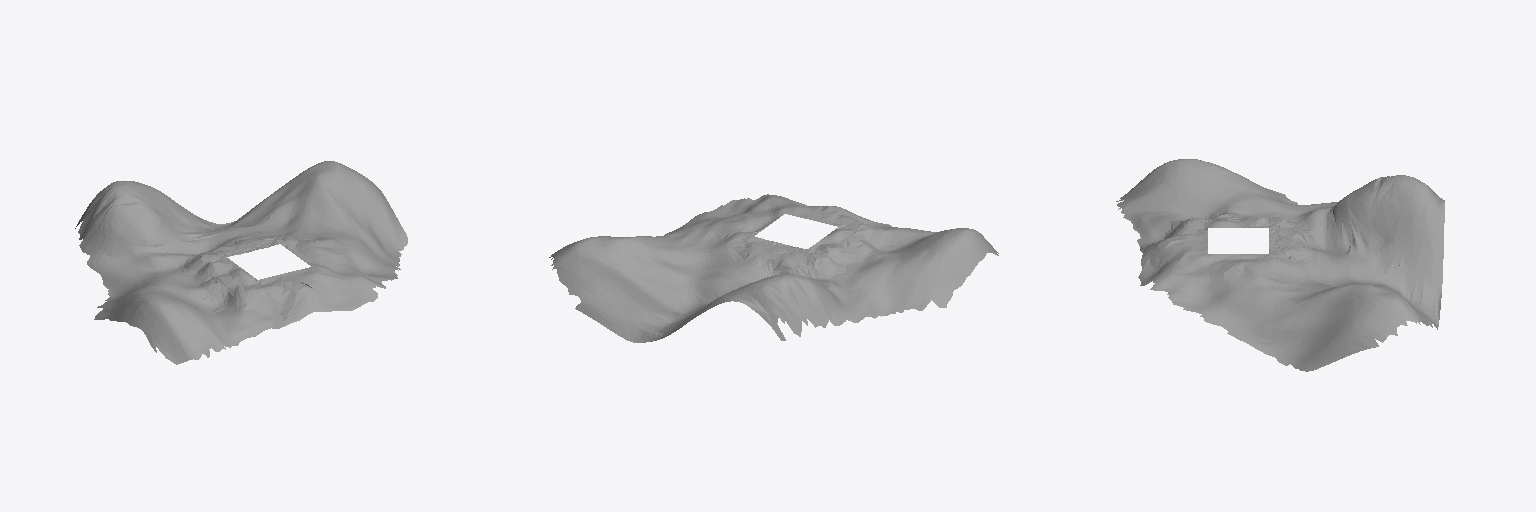
File: Sand.obj
3 views of the same model, side by side, from view 1: azimuth 30°, elevation 25°; view 2: azimuth 150°, elevation 25°; view 3: azimuth 270°, elevation 25° (orthographic).
Visible parts, largest first — view 1: Sand_Sand.001; view 2: Sand_Sand.001; view 3: Sand_Sand.001.
Boxes of the visible parts, x1=… form: Sand_Sand.001: x1=75, y1=161, x2=407, y2=364; Sand_Sand.001: x1=549, y1=194, x2=998, y2=342; Sand_Sand.001: x1=1116, y1=159, x2=1444, y2=371.
Bounding box in the file's own units: 1220 × 287 × 1022.